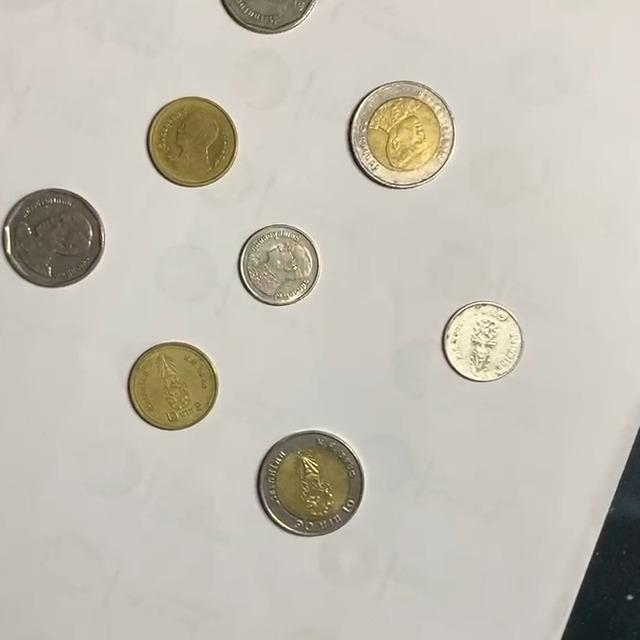1-baht: (442, 301, 527, 384), (238, 224, 322, 307)
10-baht: (350, 81, 457, 188), (257, 432, 364, 537)
2-baht: (147, 96, 239, 188), (128, 341, 220, 431)
5-baht: (1, 188, 106, 288), (218, 0, 321, 37)
